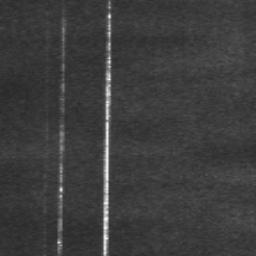Bright scratch: (103, 0, 111, 256), (57, 11, 65, 256)
